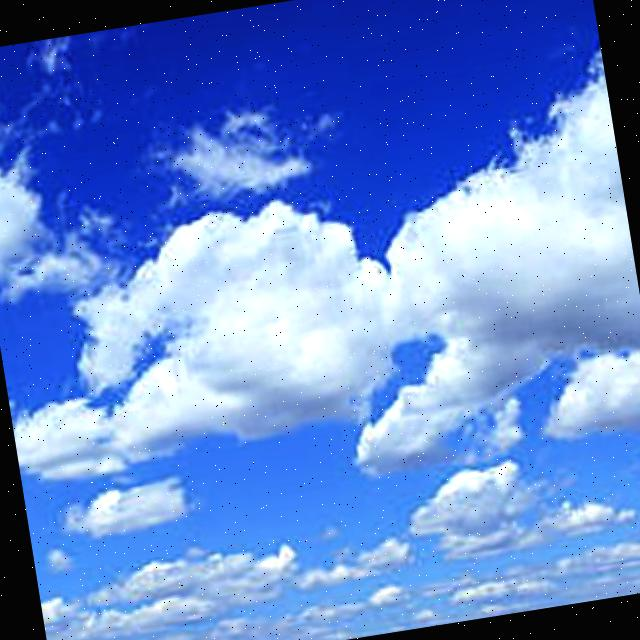Cu: (1, 40, 640, 536)
